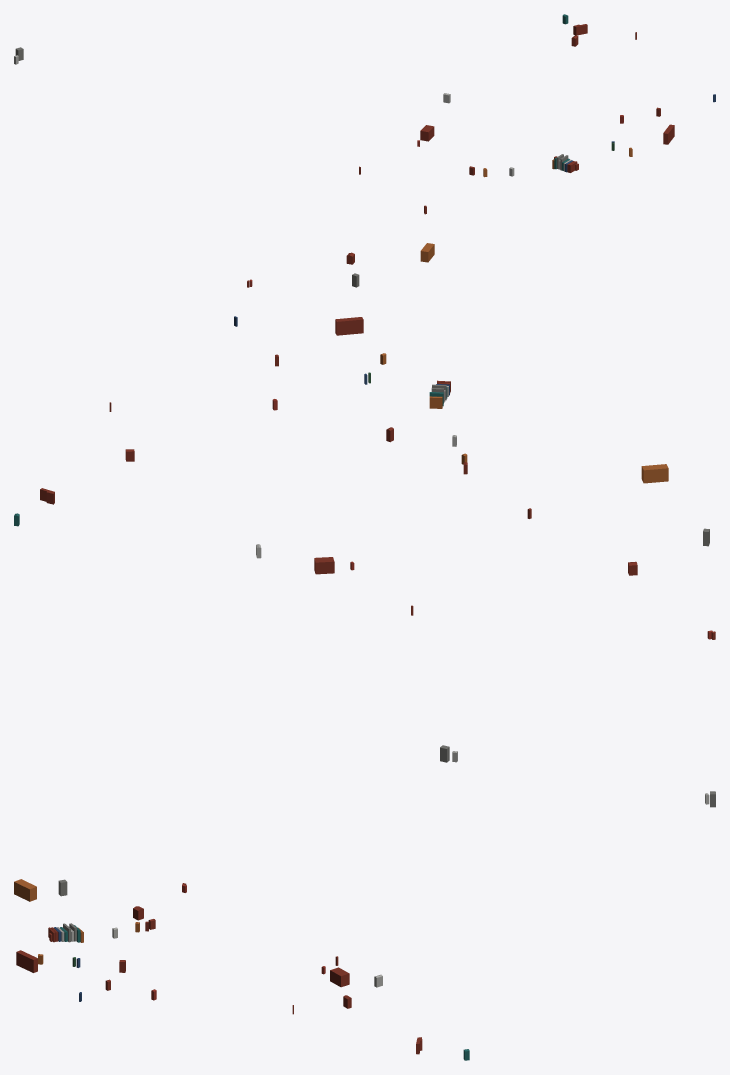
Rendered from near-15-27363-14861.68e02fe3.glb.
The picture shows the model from 3 angles, top to bottom: view 1: azimuth 30°, elevation 25°; view 2: azimuth 150°, elevation 25°; view 3: azimuth 270°, elevation 25°; orthographic projection. The views are drawn at different scales.
Size of the model in its own units: 1050 by 268 by 1180.
